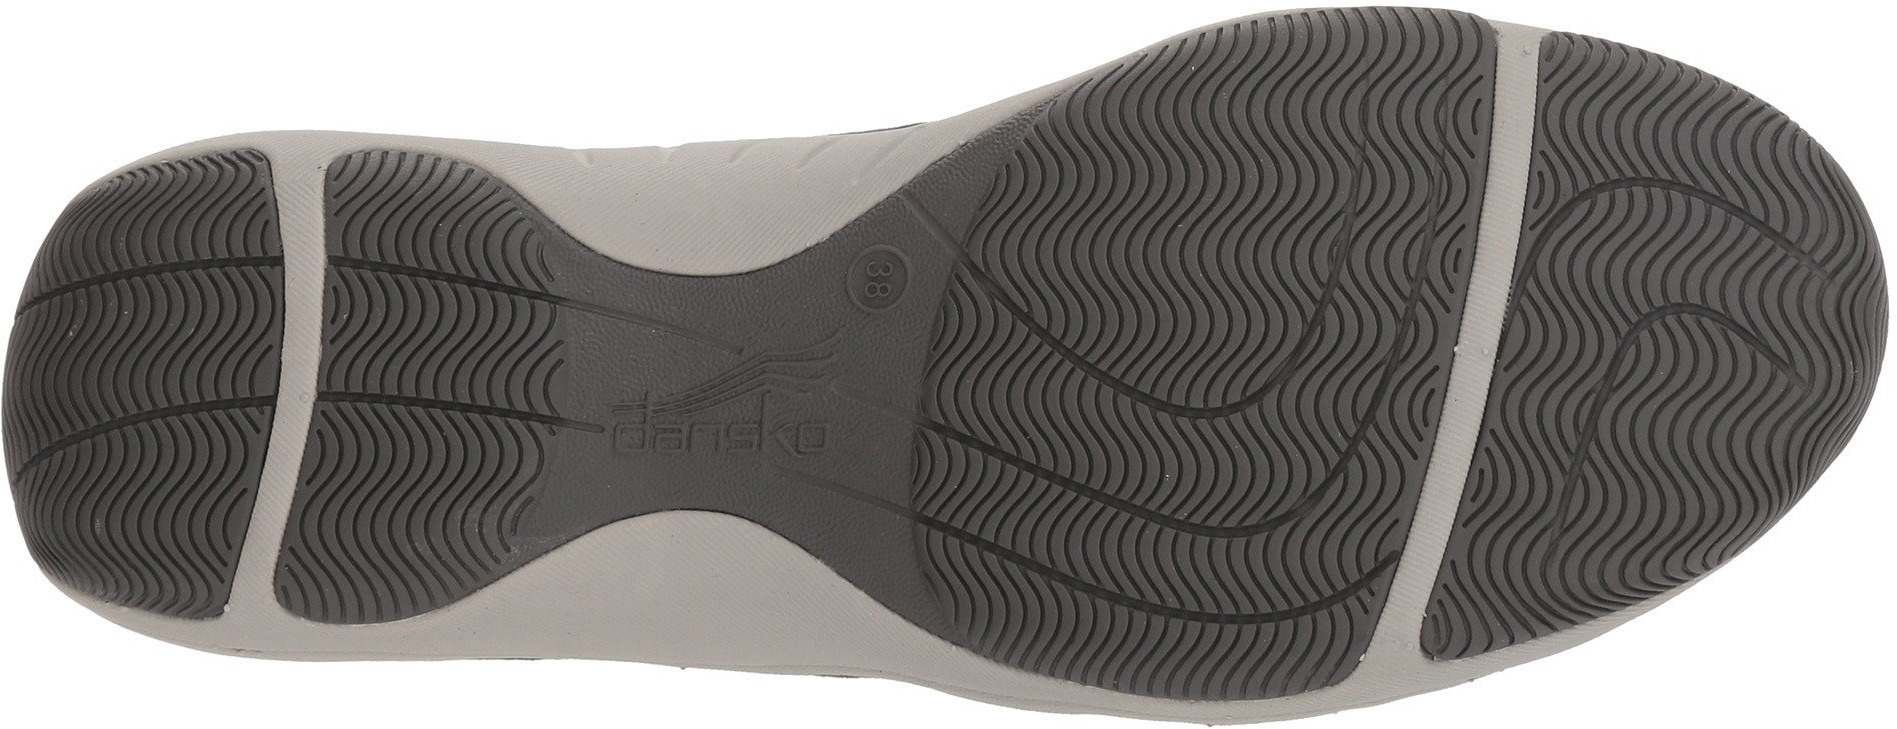chevron: (1547, 146, 1826, 409), (934, 384, 1174, 656), (1034, 149, 1299, 392), (335, 245, 557, 482), (28, 361, 254, 571), (1192, 412, 1386, 611), (104, 183, 277, 365), (1493, 405, 1664, 588), (1311, 31, 1483, 207), (1304, 216, 1464, 374)
circle: (834, 235, 918, 320)
text: (732, 384, 840, 486), (622, 374, 728, 469), (851, 247, 905, 303)
